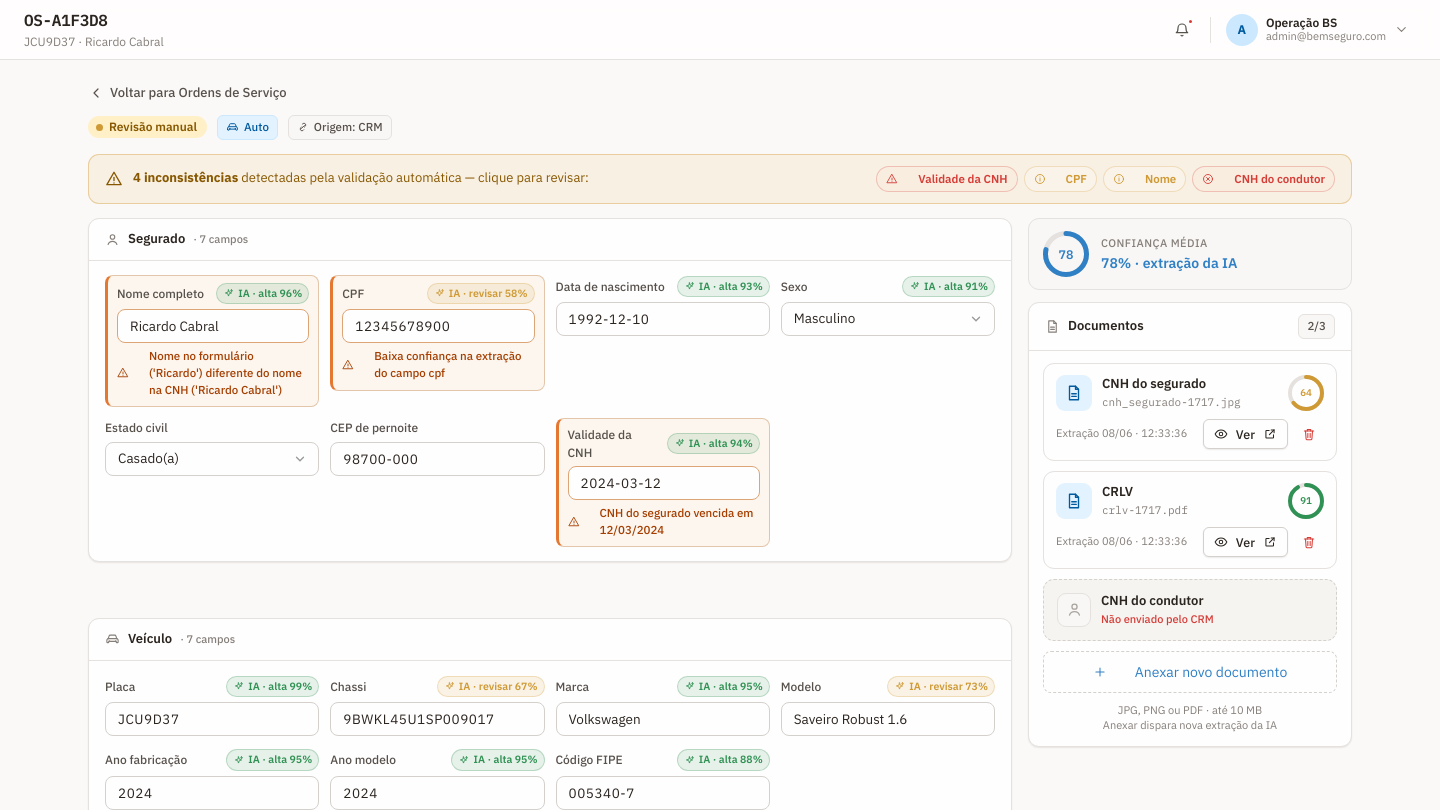
DetalheOS — estado revisao_manual › confirmar remoção do CNH do segurado limpa o bloco e reabre o anexar
Expected: the text "CNH do segurado" is shown, [1102,375,1206,392]
Expected: the field named "Nome completo" holds "Ricardo Cabral", [117,309,309,343]
Click the button named "remover documento" below "cnh_segurado-1717.jpg": (1309, 434) [1294,419,1324,449]
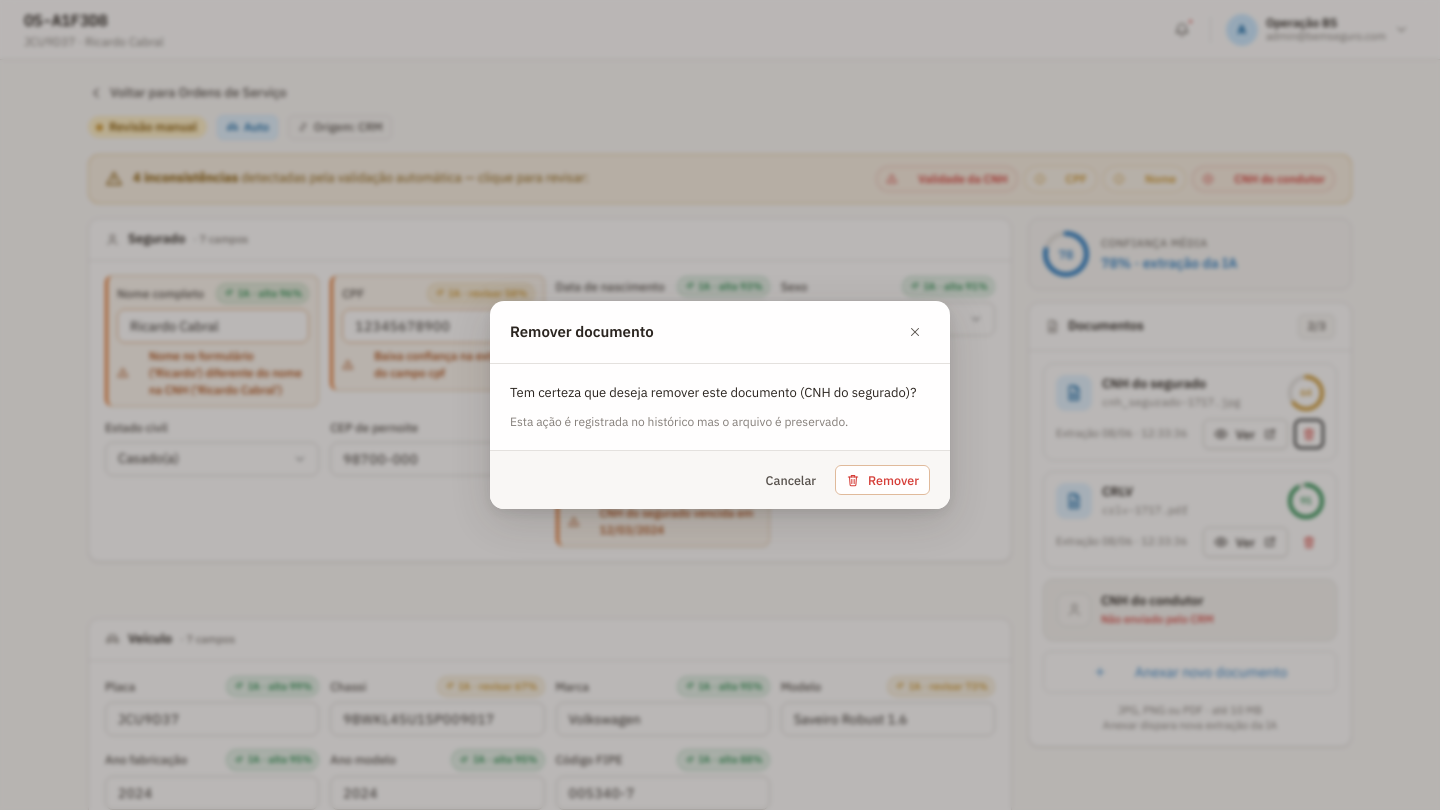
Click the button "Remover": (883, 480) [835,465,930,495]
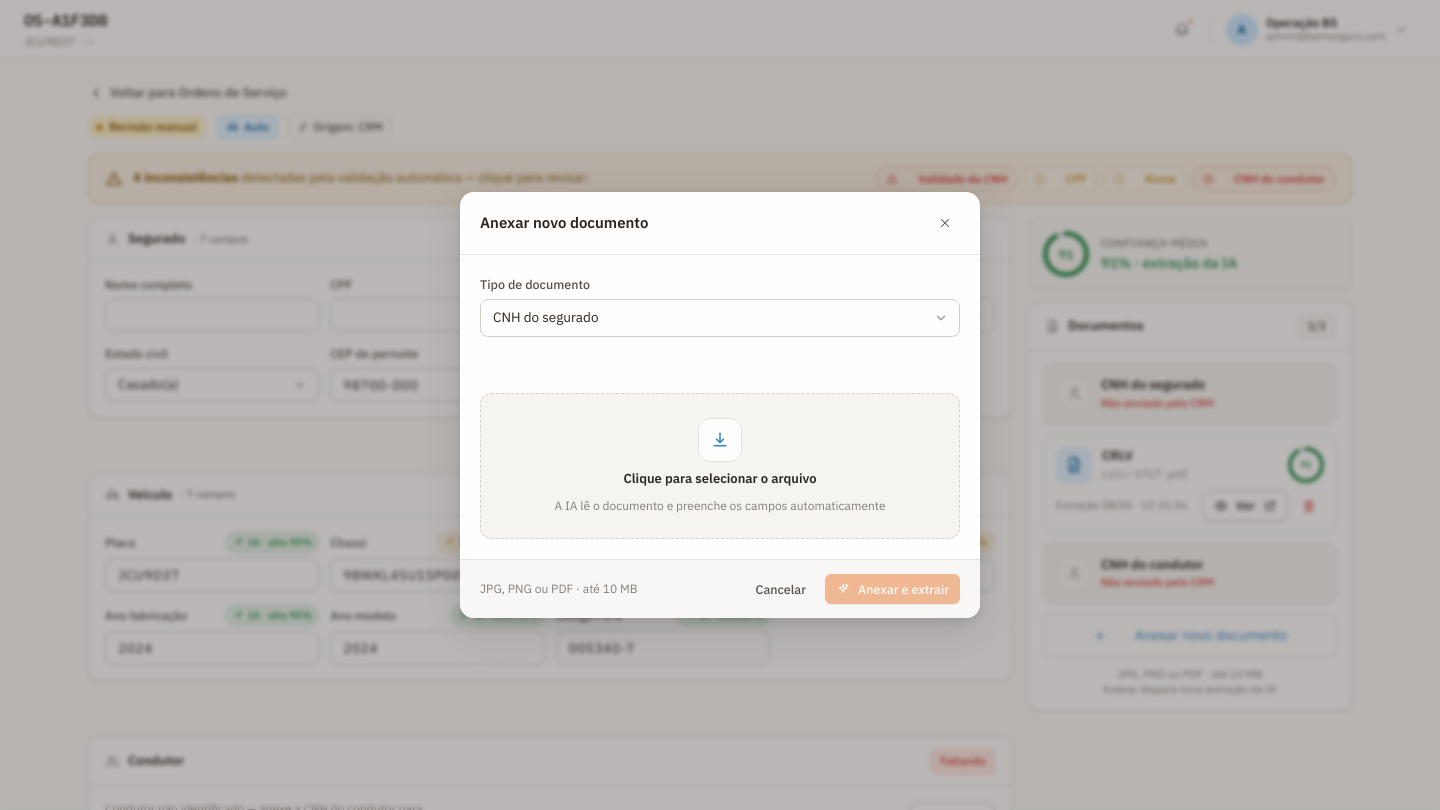
Expected: the field named "Nome completo" is empty, [105,298,319,332]
Expected: the dropdown named "Tipo de documento" shows "CNH do segurado", [480,299,960,337]
